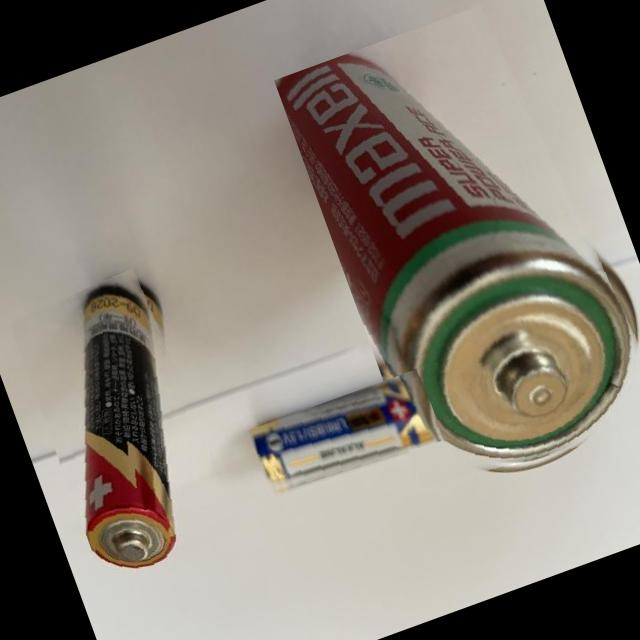Hazard: (273, 0, 640, 509), (4, 262, 246, 582), (247, 366, 444, 501)
